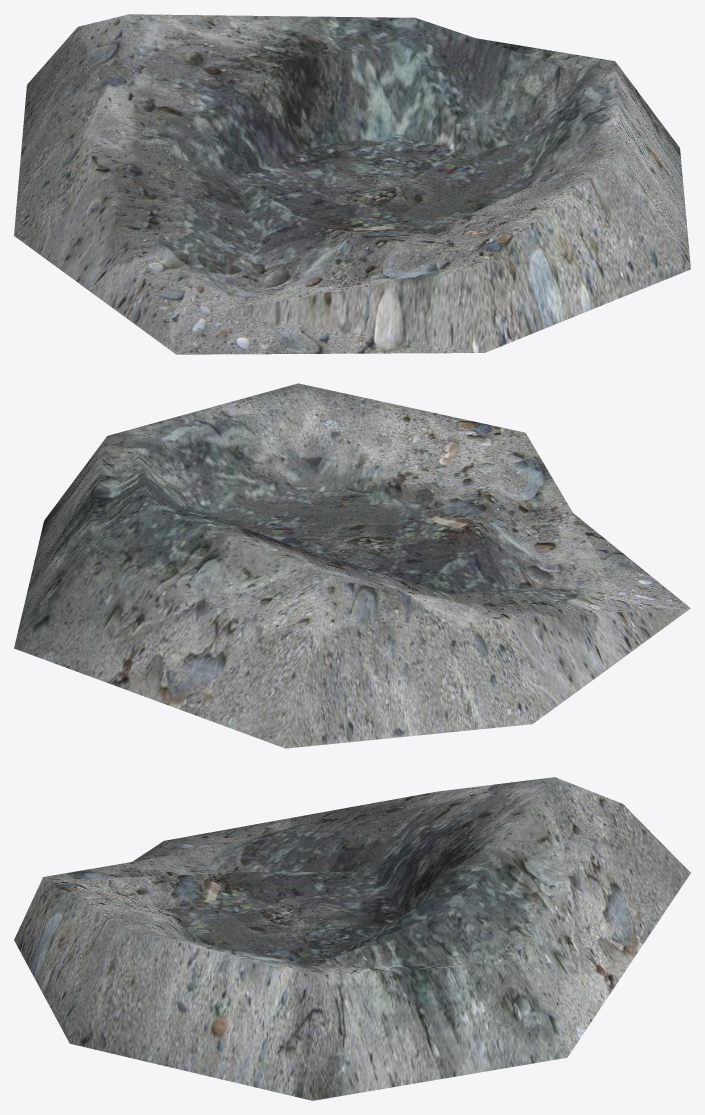
Rendered from crater_1.obj.
The picture shows the model from 3 angles, top to bottom: view 1: azimuth 30°, elevation 25°; view 2: azimuth 150°, elevation 25°; view 3: azimuth 270°, elevation 25°; orthographic projection. The views are drawn at different scales.
Parts seen in each view (by area): view 1: pCylinder1; view 2: pCylinder1; view 3: pCylinder1.
Boxes of the visible parts, x1,y1,x2,y2 form: pCylinder1: [14, 14, 690, 354]; pCylinder1: [14, 383, 690, 748]; pCylinder1: [14, 777, 690, 1100].
Bounding box in the file's own units: 3.6 × 0.8694 × 3.88.
1 material, 1 textured.
